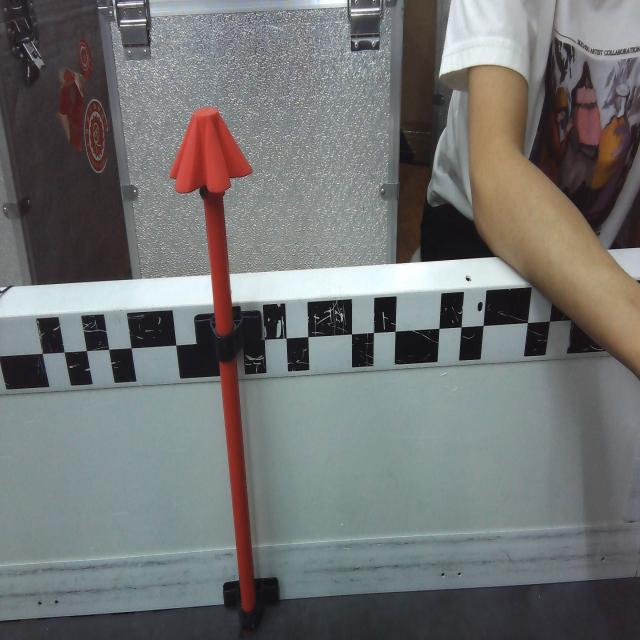zred-Stake-Head: (170, 107, 252, 193)
